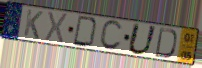C: (98, 19, 124, 52)
D: (72, 14, 100, 49), (154, 27, 178, 60)
K: (22, 8, 45, 41)
U: (126, 22, 159, 56)
X: (43, 10, 70, 46)
